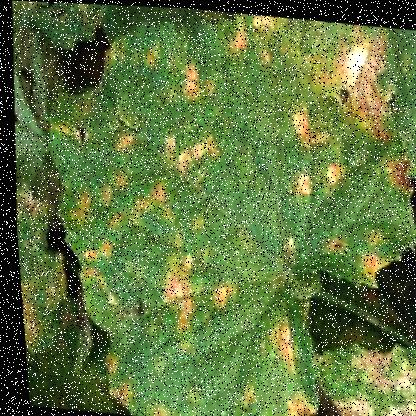Anthracnose: (129, 19, 413, 251), (45, 175, 313, 415)
